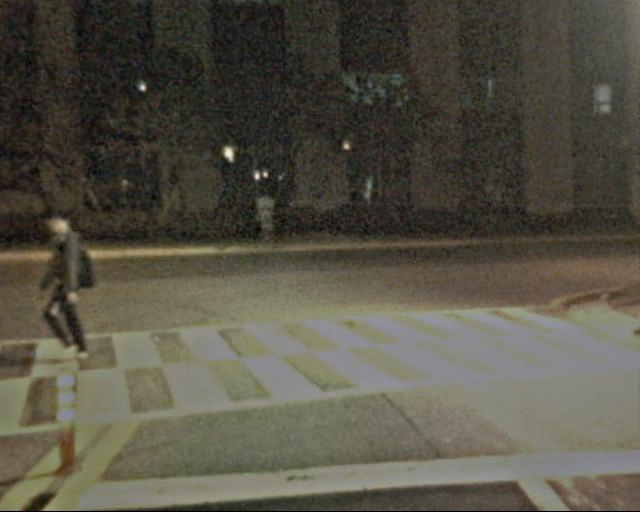person: (36, 211, 108, 360)
